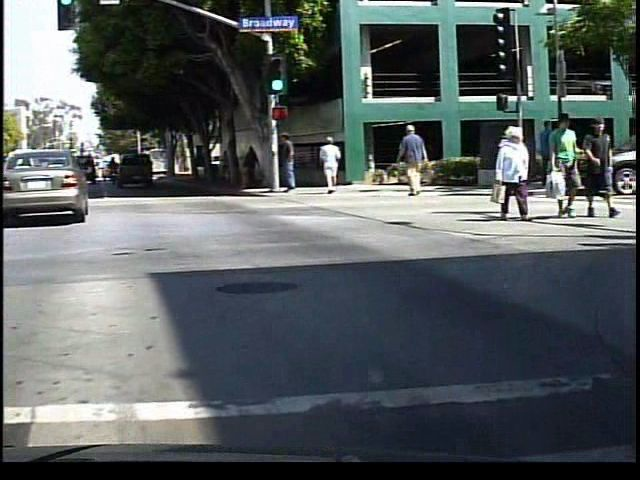person: (493, 124, 544, 223), (550, 112, 587, 220), (586, 114, 622, 218), (400, 124, 436, 196), (538, 114, 565, 189), (285, 129, 310, 200), (322, 134, 349, 197), (248, 140, 269, 191), (232, 146, 247, 190)
